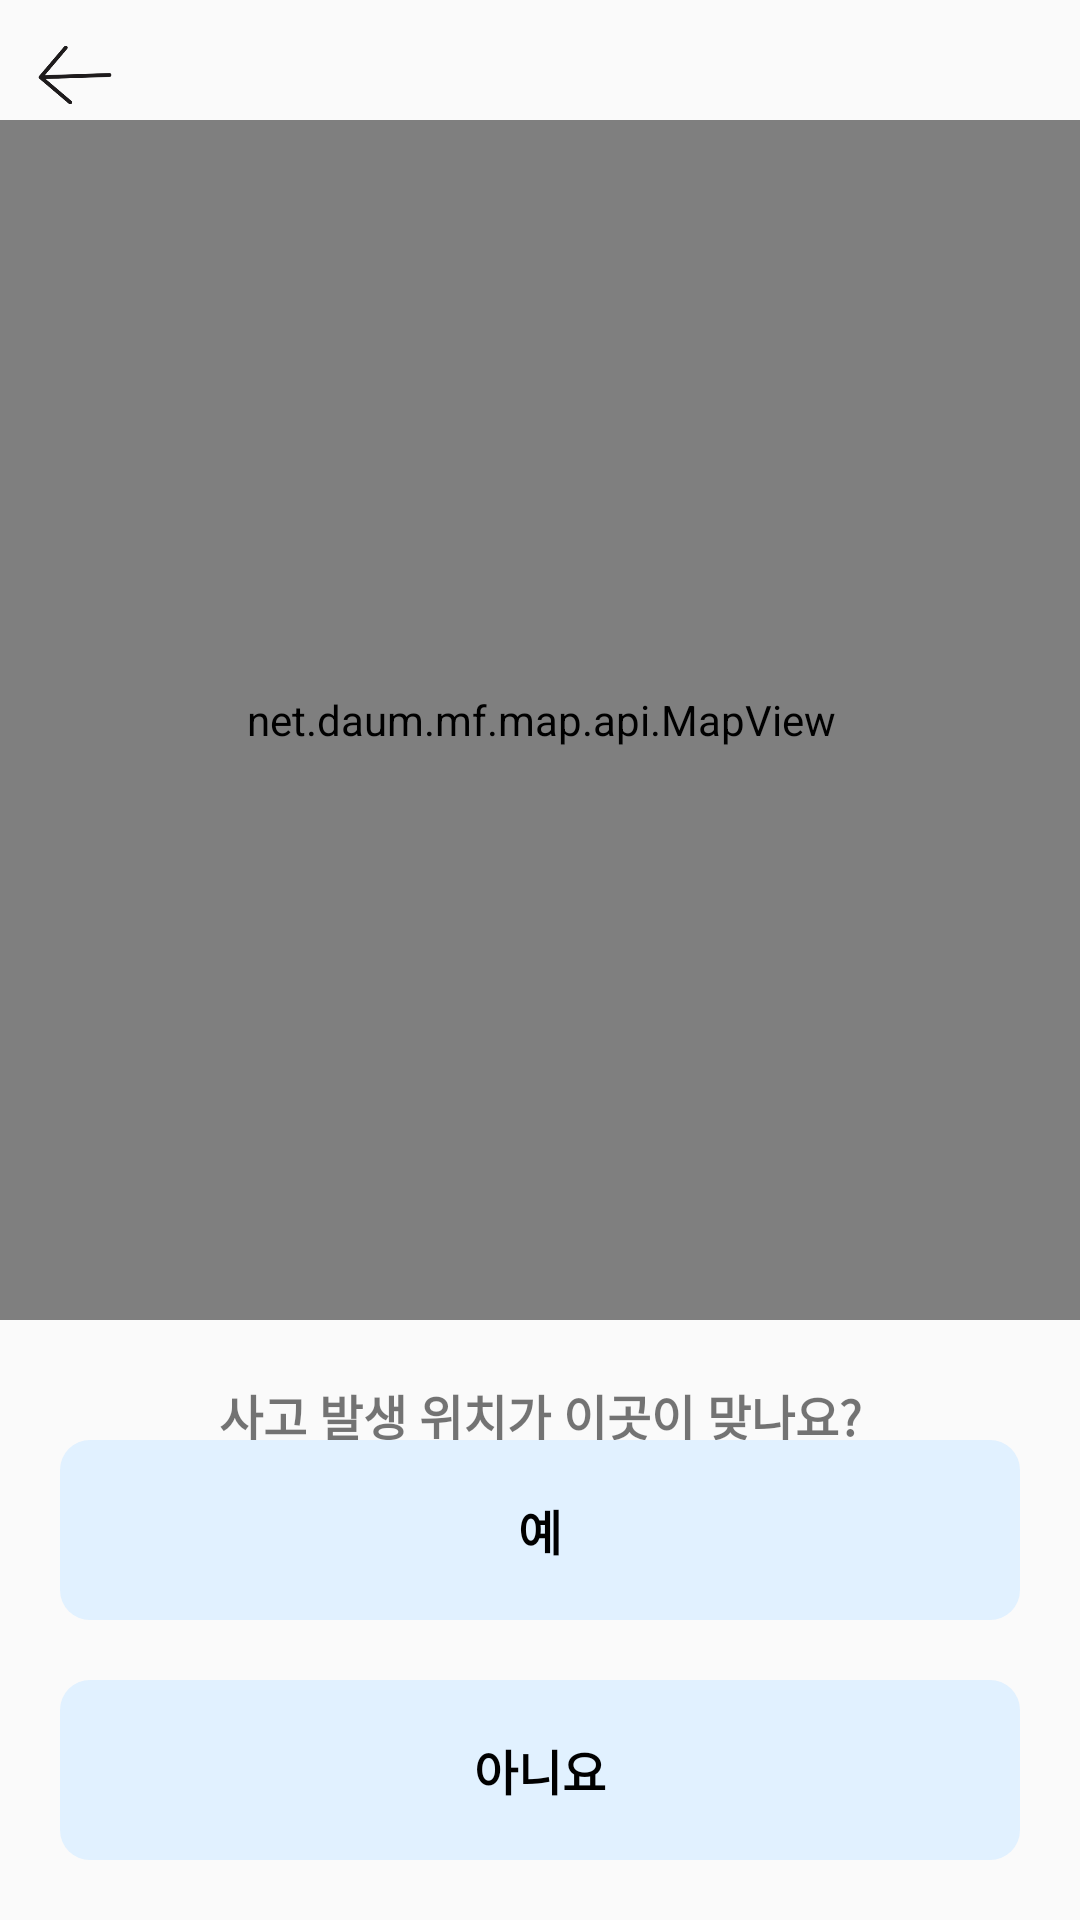

Screen size 1080 × 1920. Icon name, then its center in pixels as [x,y]:
back arrow: [75,75]
